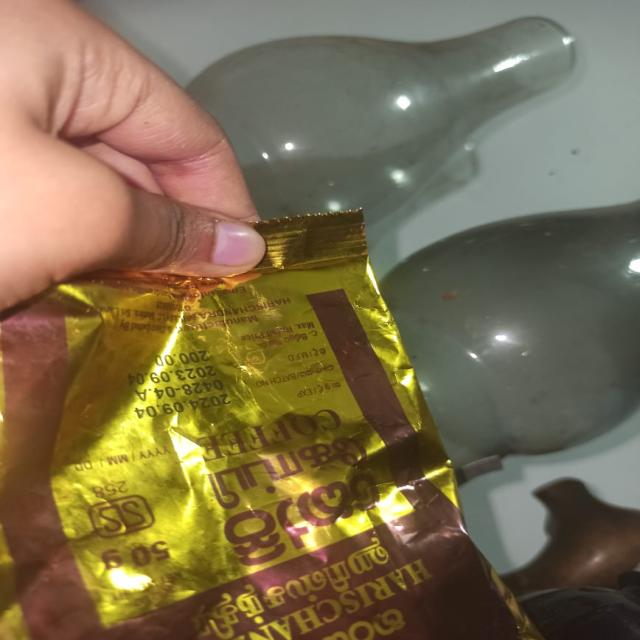Harischandra Coffee: (0, 206, 604, 640)
